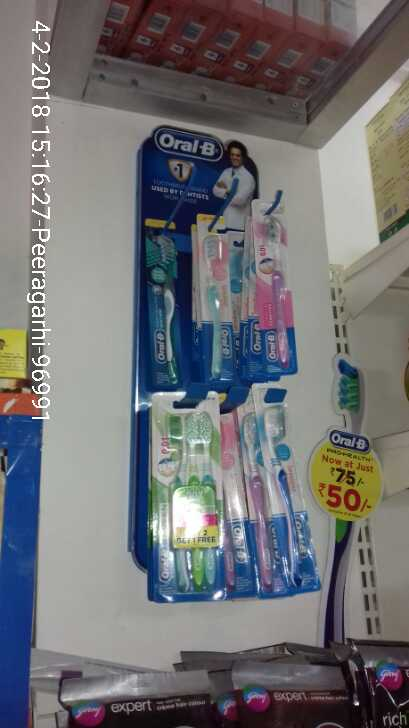oralb: (238, 403, 310, 594), (157, 393, 221, 591)
